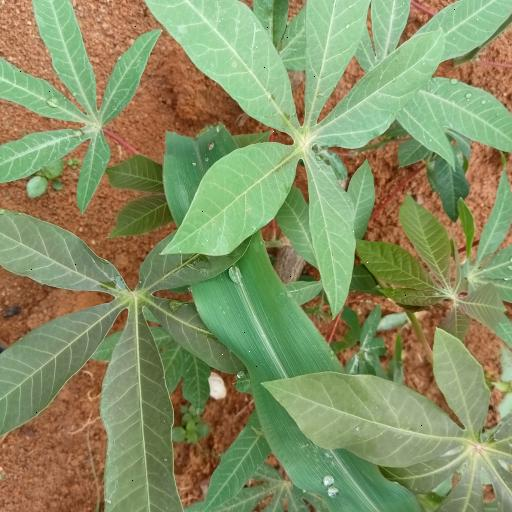Cassava_Mosaic: (0, 198, 262, 512), (286, 338, 512, 508), (375, 204, 503, 343)
